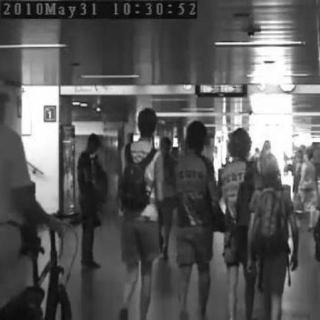other: (124, 136, 166, 212)
